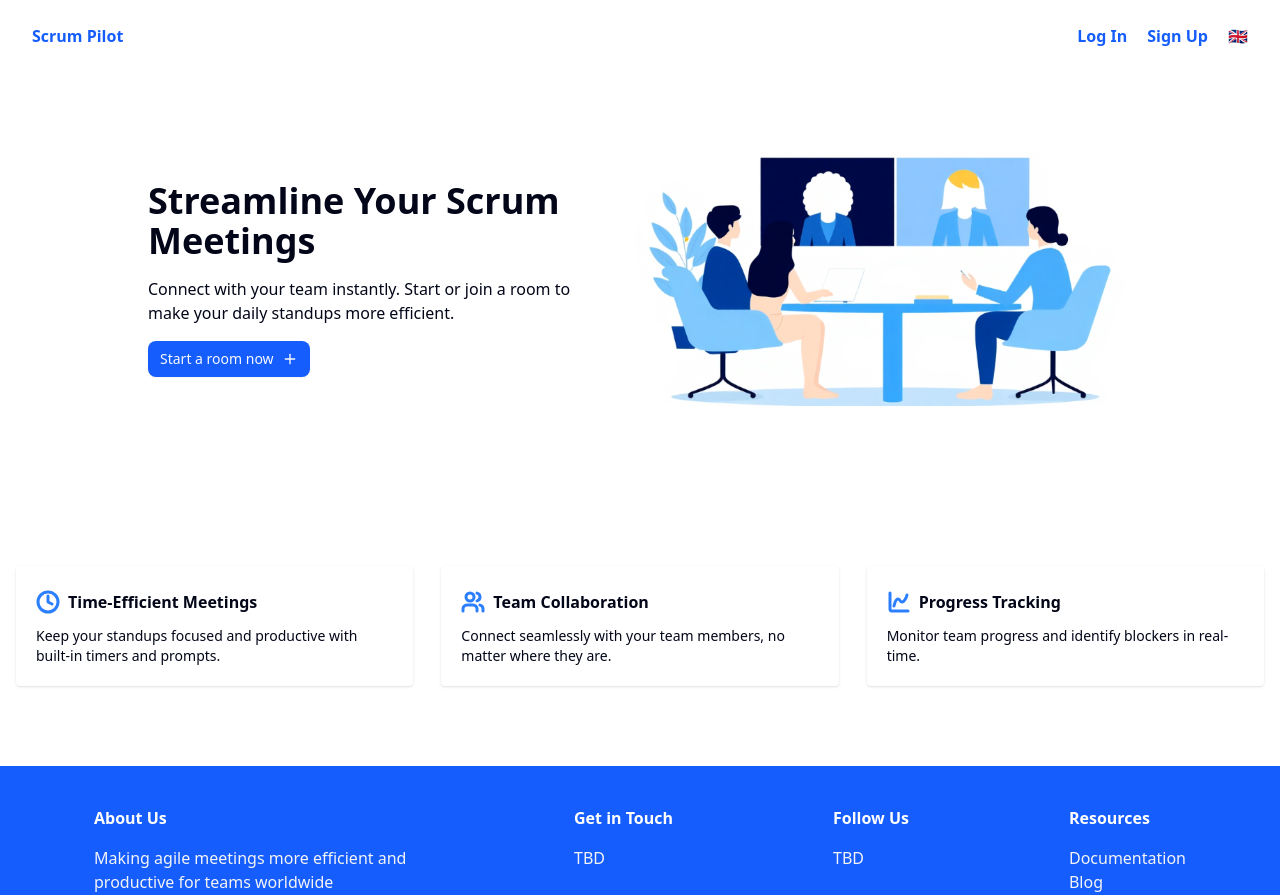
Scenario: Language selection › should render the language dropdown on menu item click
The width and height of the screenshot is (1280, 895).
Click the button with test id "language-button" at (1238, 36), box [1228,24,1248,48]
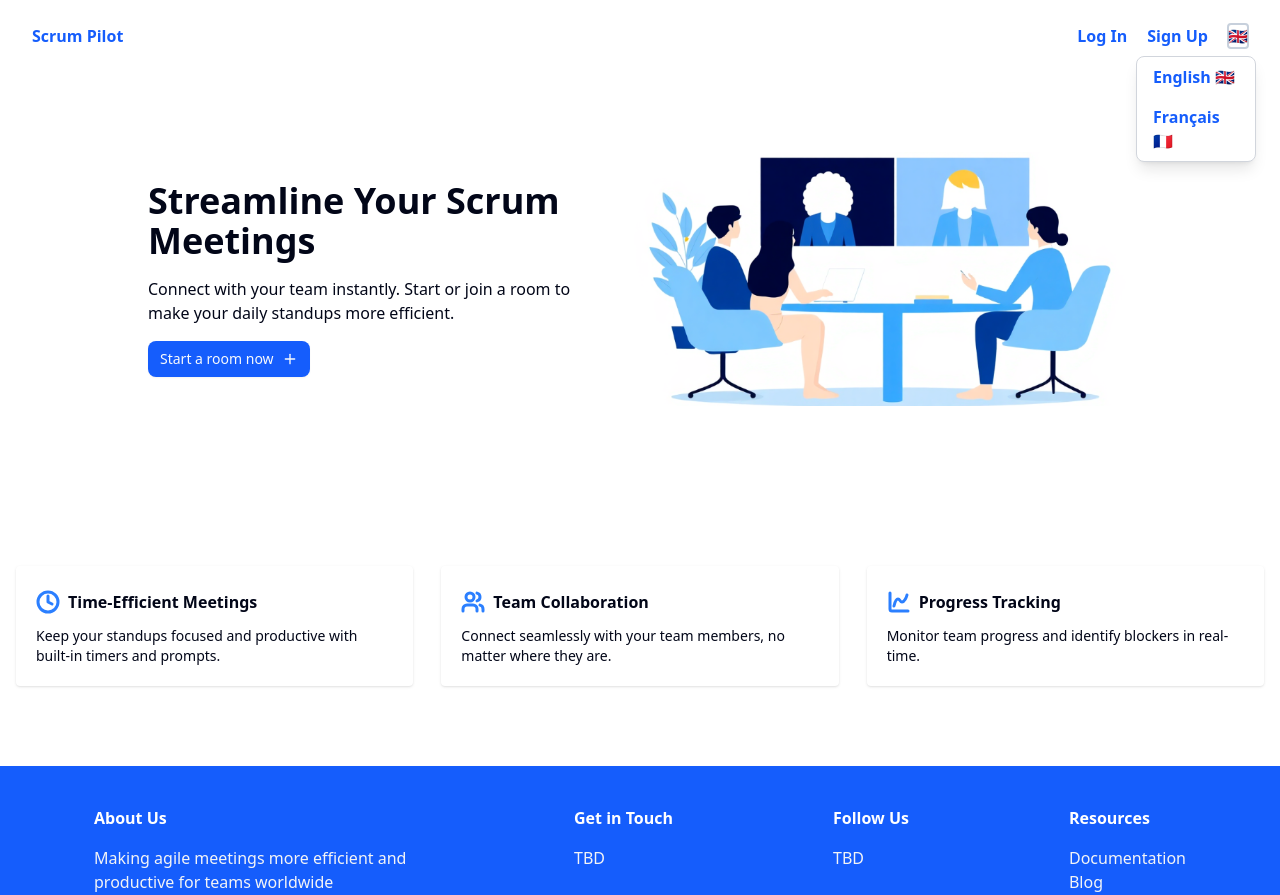
Expected: the element with test id "language-dropdown" is shown, [1136,56,1256,162]
